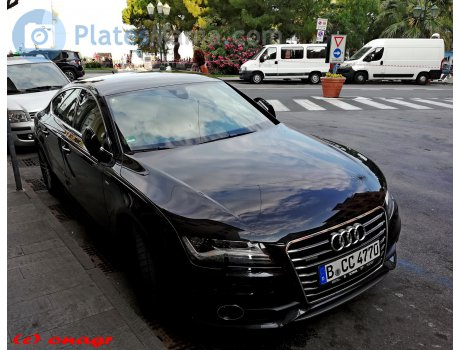License Plates: (329, 240, 377, 277)
